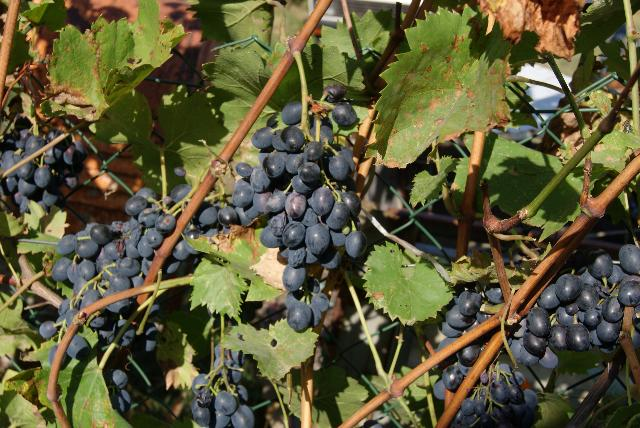grapes: (40, 185, 230, 428), (219, 85, 366, 331), (511, 245, 640, 369), (191, 345, 255, 428), (440, 289, 484, 341)
